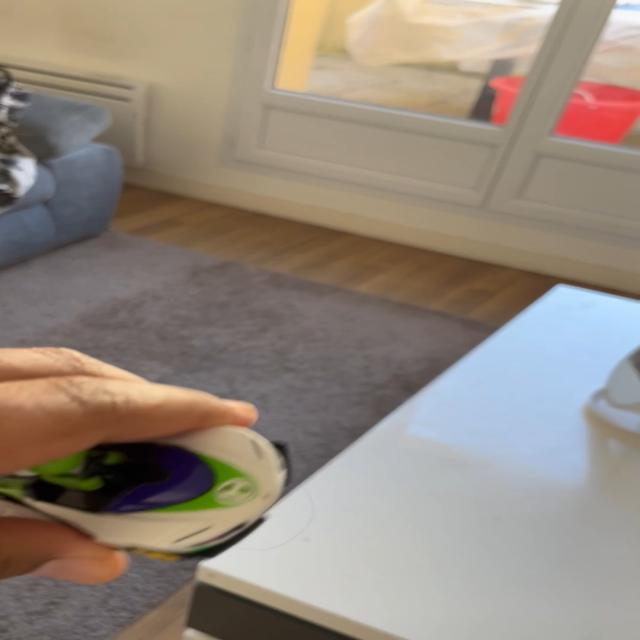yoshi: (18, 419, 323, 571)
